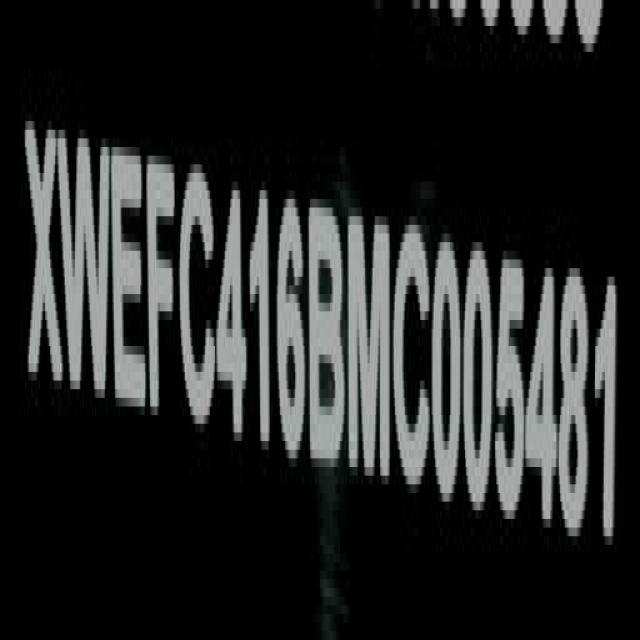0: (463, 243, 493, 512), (433, 237, 461, 506)
1: (594, 275, 620, 551), (250, 182, 272, 464)
4: (525, 263, 558, 525), (217, 176, 248, 442)
5: (496, 260, 526, 512)
6: (276, 195, 306, 474)
8: (558, 262, 590, 560)
B: (308, 198, 346, 481)
C: (392, 208, 432, 490), (179, 163, 216, 436)
E: (110, 141, 146, 426)
F: (145, 137, 178, 436)
M: (347, 205, 392, 490)
W: (57, 132, 113, 432)
X: (24, 109, 63, 407)
